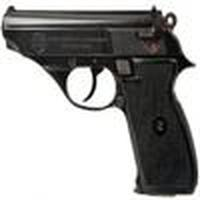gun: (3, 5, 200, 195)
